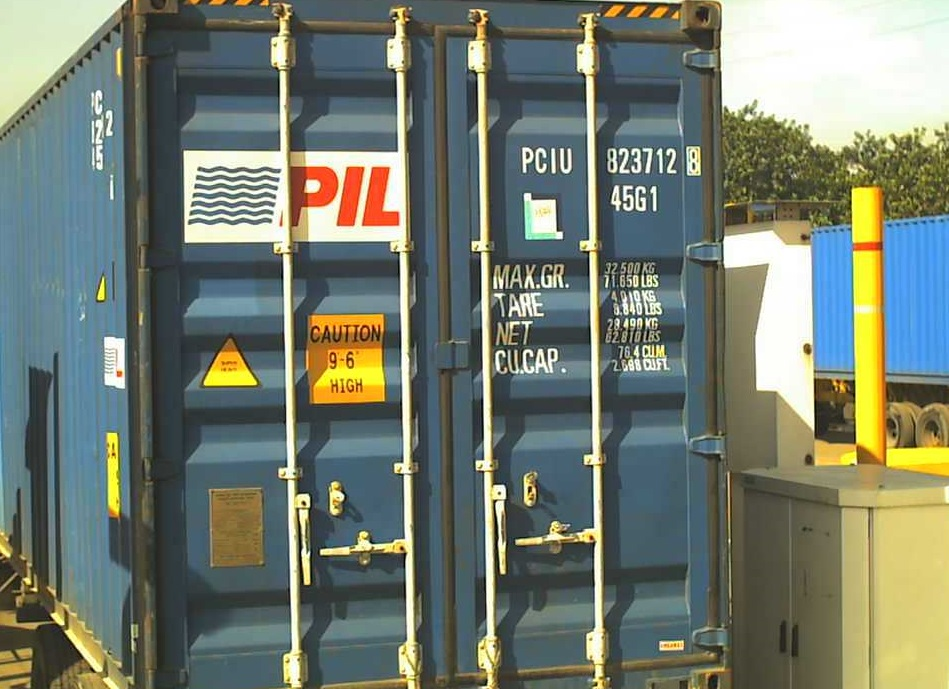container_door: (131, 5, 730, 689)
